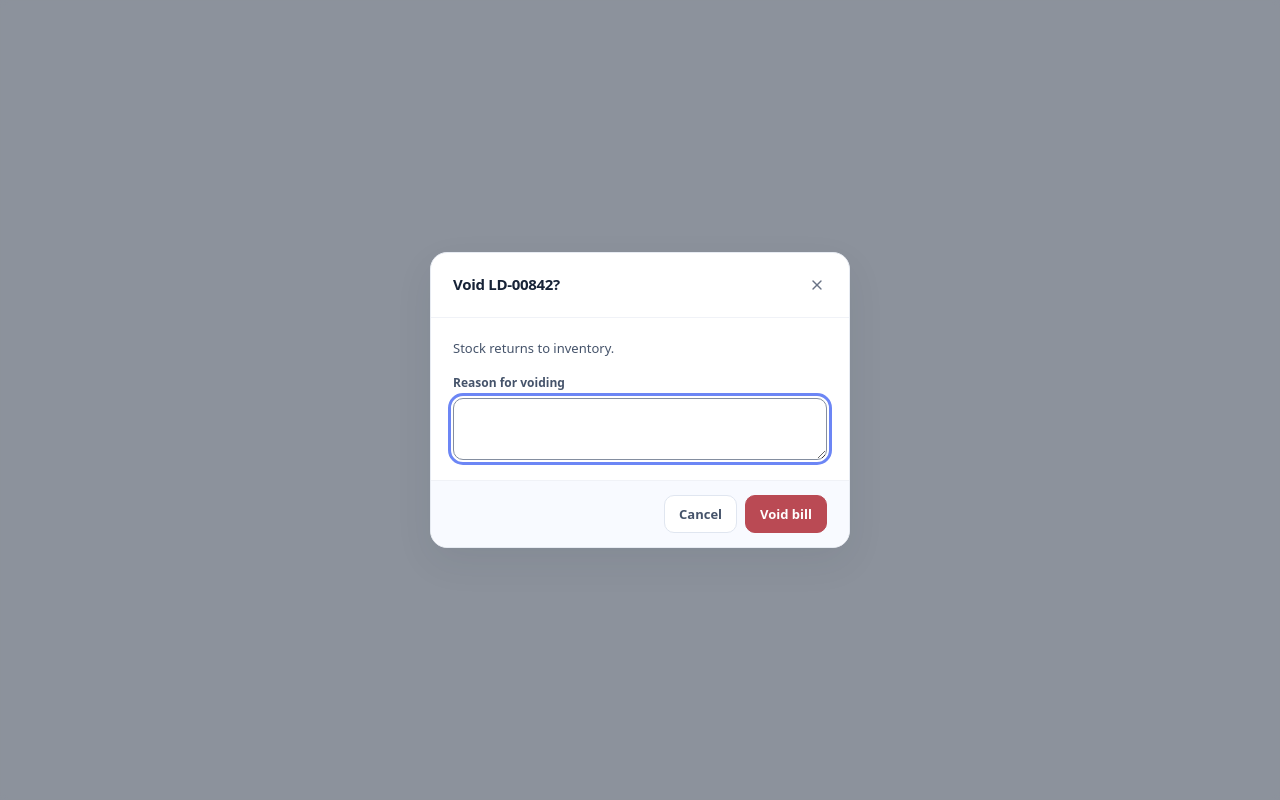
Test: ConfirmDialog › keeps the dialog open and shows the error when the action fails
Type "Duplicate bill" into the text box labelled "Reason for voiding" at (640, 429), box 453,398 -> 827,460
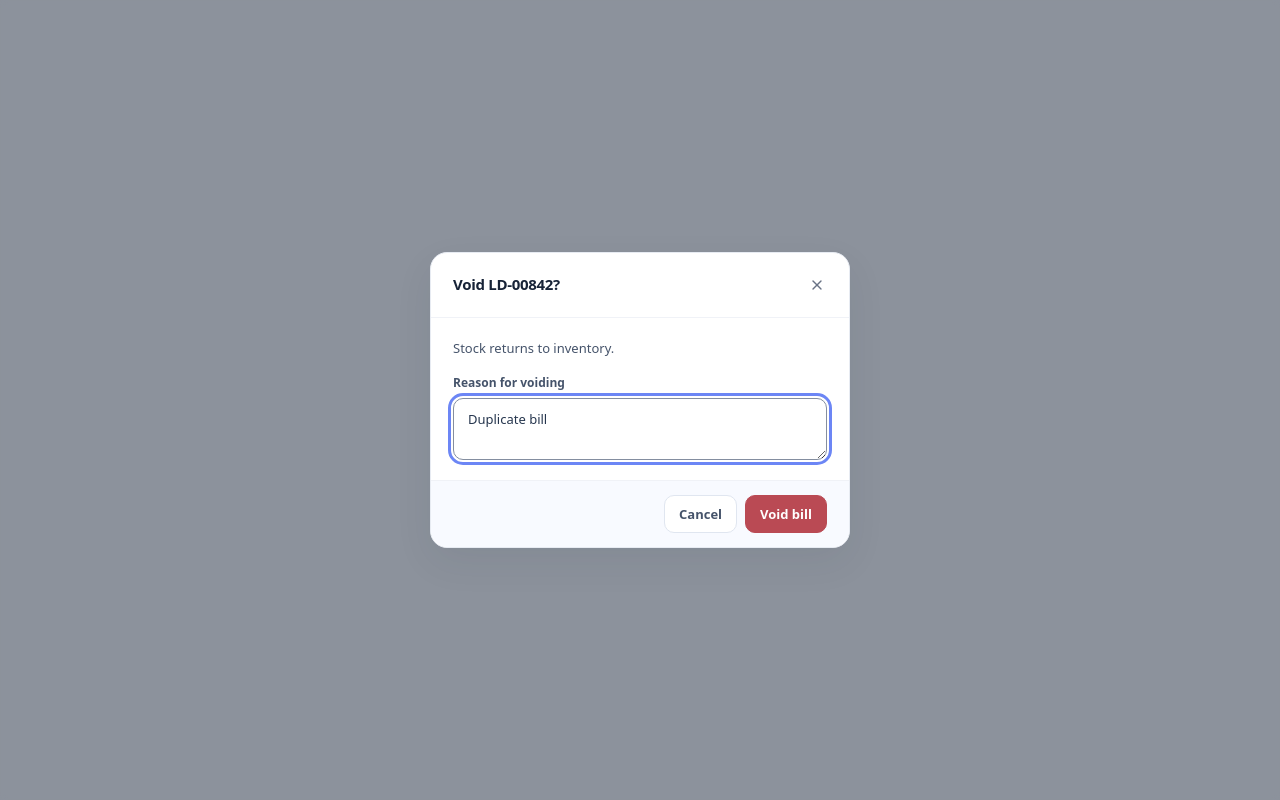
Click the button "Void bill" at (786, 514), box 745,495 -> 827,533
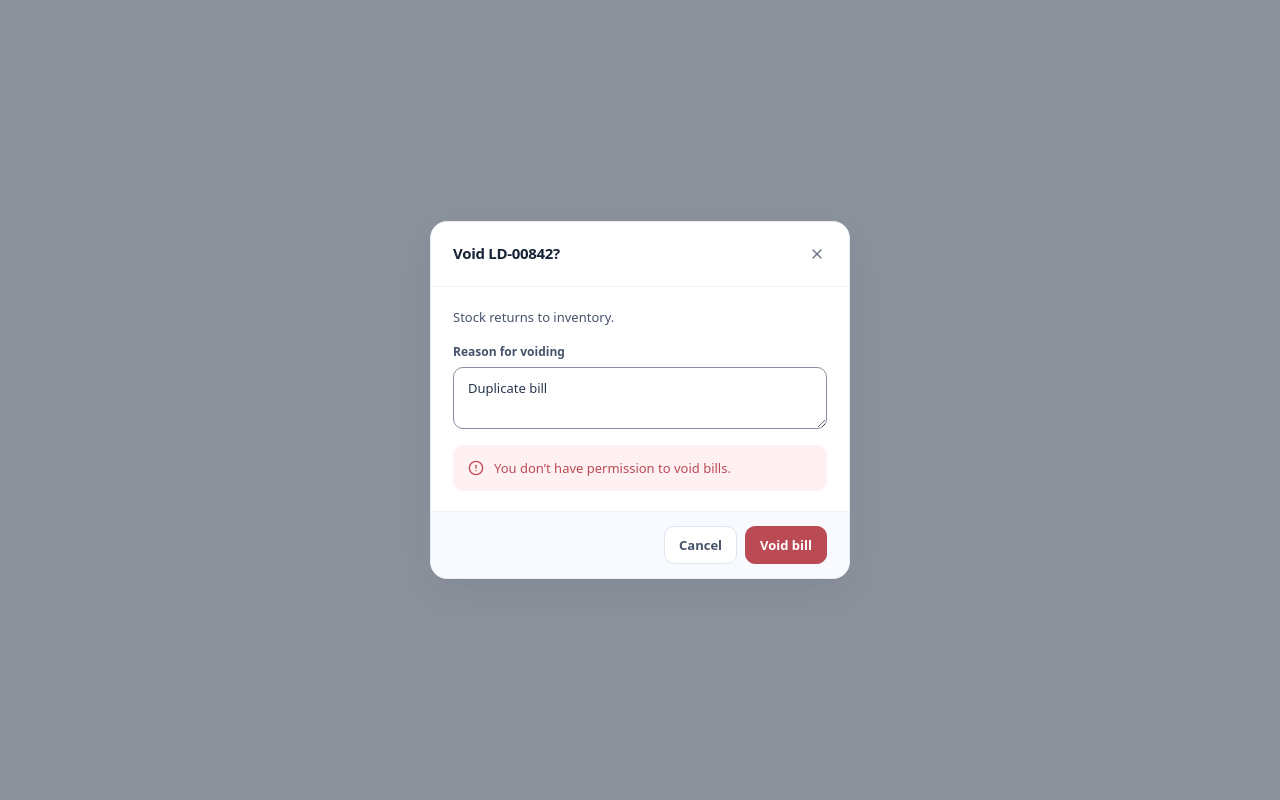
Expected: the dialog is shown, 430,221 -> 850,579
Expected: the message reads "You don’t have permission to void bills.", 494,459 -> 731,477
